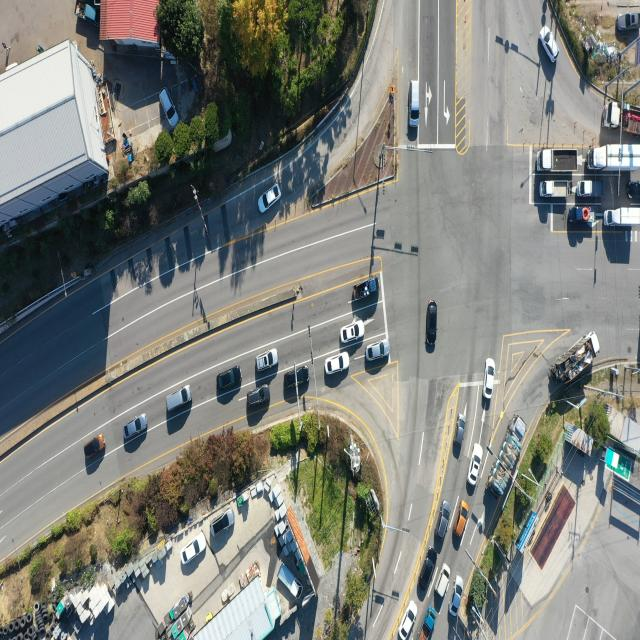car: (183, 525, 207, 571), (260, 184, 284, 217), (420, 552, 437, 594), (400, 601, 418, 640), (168, 384, 194, 411), (162, 88, 179, 129), (452, 501, 468, 543), (211, 507, 234, 536), (541, 26, 559, 63), (217, 365, 243, 390), (124, 414, 148, 441), (451, 413, 465, 459), (324, 351, 349, 376), (283, 366, 310, 389), (340, 320, 365, 344), (426, 302, 438, 352), (468, 443, 482, 485), (365, 341, 390, 364), (438, 500, 452, 540), (246, 384, 270, 407), (449, 574, 462, 615), (255, 348, 278, 371), (411, 80, 422, 128), (84, 435, 106, 458), (484, 358, 496, 400), (438, 564, 452, 600), (616, 11, 640, 30), (626, 180, 640, 198)
medium_truck: (490, 414, 526, 496), (553, 331, 600, 387), (541, 147, 581, 173), (606, 206, 640, 228), (604, 101, 621, 130)
small_truck: (277, 562, 303, 599), (352, 274, 379, 302), (541, 182, 573, 202), (418, 607, 437, 640), (579, 178, 605, 199), (75, 1, 97, 24), (570, 205, 594, 225)
